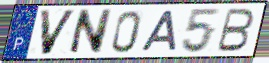0: (110, 9, 144, 54)
5: (180, 7, 223, 54)
A: (139, 9, 178, 53)
B: (214, 8, 256, 53)
N: (66, 8, 114, 57)
V: (38, 8, 79, 57)
